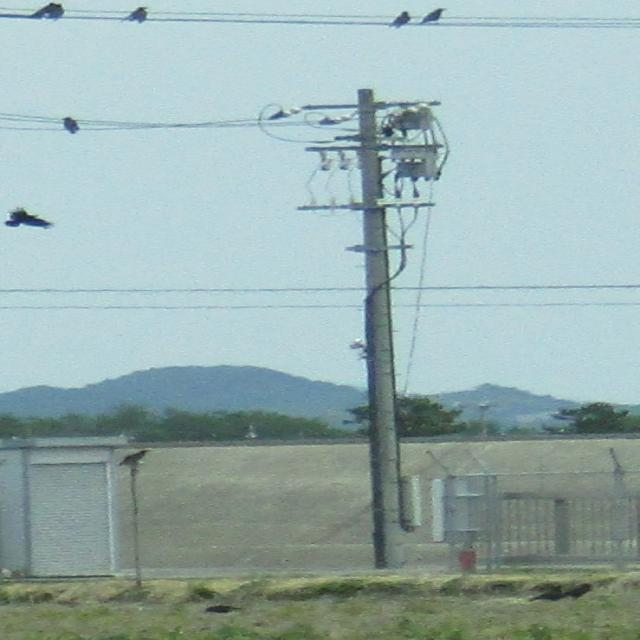pole: (264, 78, 494, 570)
